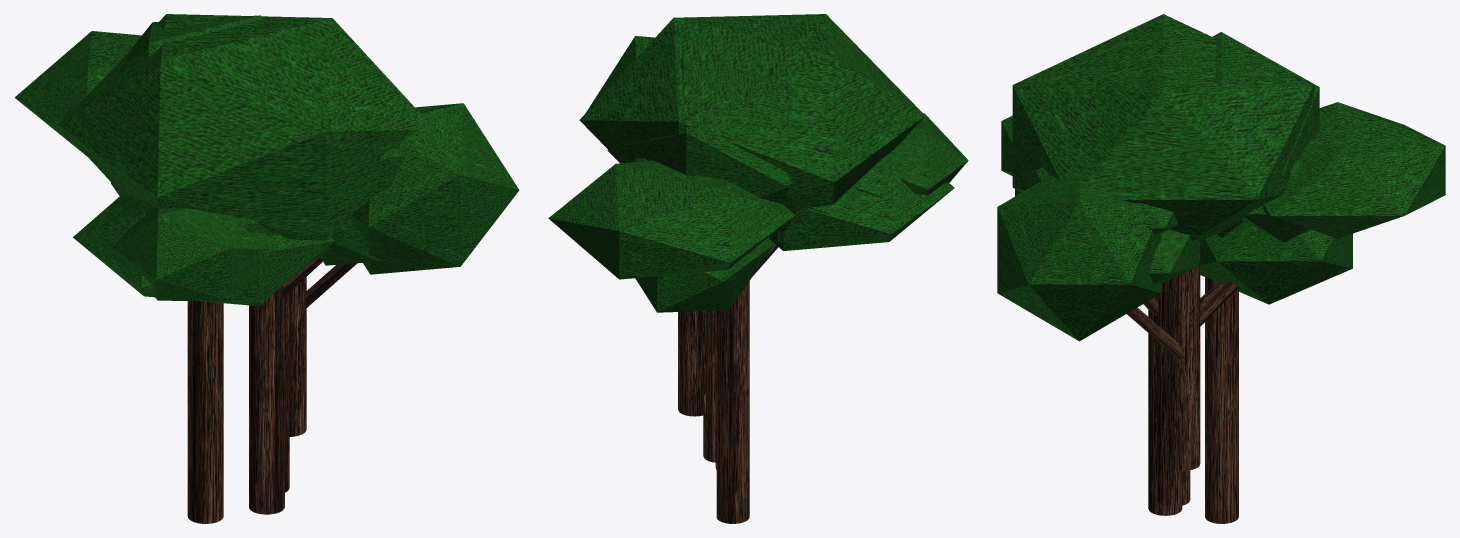
Rendered from trees.obj.
3 renders of one model, left to right at view 1: azimuth 30°, elevation 25°; view 2: azimuth 150°, elevation 25°; view 3: azimuth 270°, elevation 25°, orthographic. The views are drawn at different scales.
Visible parts, largest first — view 1: Icosahedron13, Icosahedron14, Icosahedron15, Cylinder64, Cylinder60, Icosahedron4, Icosahedron16, Cylinder52, Icosahedron201, Icosahedron21, Cylinder56, Icosahedron2 (+2 smaller); view 2: Icosahedron13, Icosahedron16, Icosahedron201, Cylinder64, Icosahedron4, Icosahedron3, Icosahedron15, Cylinder52, Cylinder56, Icosahedron14, Icosahedron22, Icosahedron203; view 3: Icosahedron13, Icosahedron14, Icosahedron16, Icosahedron3, Cylinder64, Cylinder52, Icosahedron201, Cylinder56, Cylinder60, Icosahedron202, Icosahedron23, Icosahedron2 (+3 smaller).
Part boxes in pixels (x1,y1,x2,y2): Icosahedron13: (58, 14, 419, 240); Icosahedron14: (351, 103, 519, 274); Icosahedron15: (112, 207, 277, 300); Cylinder64: (187, 301, 223, 523); Cylinder60: (249, 286, 284, 514); Icosahedron4: (73, 197, 334, 306); Icosahedron16: (14, 31, 141, 155); Cylinder52: (289, 277, 306, 436); Icosahedron201: (117, 15, 262, 74); Icosahedron21: (319, 235, 380, 265); Cylinder56: (285, 293, 289, 492); Icosahedron2: (362, 148, 403, 204); Icosahedron13: (579, 14, 925, 210); Icosahedron16: (548, 160, 795, 279); Icosahedron201: (621, 56, 796, 232); Cylinder64: (716, 281, 749, 523); Icosahedron4: (769, 163, 954, 250); Icosahedron3: (635, 237, 773, 312); Icosahedron15: (891, 113, 968, 195); Cylinder52: (678, 311, 705, 416); Cylinder56: (703, 310, 716, 462); Icosahedron14: (586, 36, 654, 112); Icosahedron22: (855, 152, 892, 197); Icosahedron203: (771, 184, 857, 242); Icosahedron13: (1012, 14, 1314, 241); Icosahedron14: (997, 175, 1161, 341); Icosahedron16: (1263, 102, 1445, 238); Icosahedron3: (1200, 222, 1352, 304); Cylinder64: (1205, 277, 1238, 523); Cylinder52: (1166, 241, 1200, 470); Icosahedron201: (1212, 32, 1319, 237); Cylinder56: (1157, 282, 1190, 506); Cylinder60: (1148, 296, 1182, 515); Icosahedron202: (1149, 229, 1198, 283); Icosahedron23: (1242, 160, 1310, 242); Icosahedron2: (1035, 167, 1178, 234).
Size of the model in its own units: 11.67 by 15.24 by 13.22.
2 materials, 2 textured.
